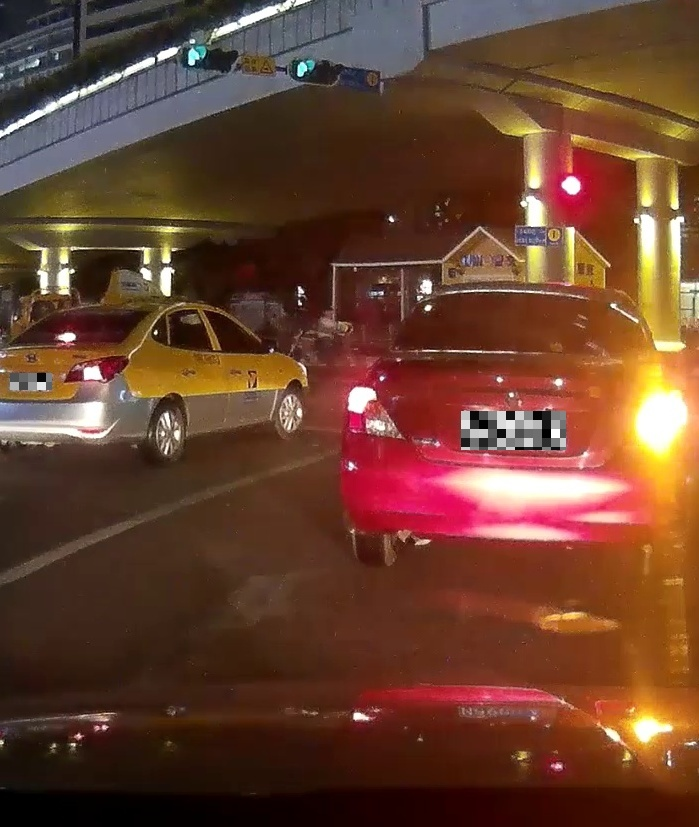L_light: (347, 386, 405, 439)
R_light: (623, 390, 678, 450)
T_light: (502, 291, 546, 303)
night-right: (339, 280, 680, 580)
plate_1: (10, 373, 52, 390)
plate_2: (461, 411, 566, 450)
